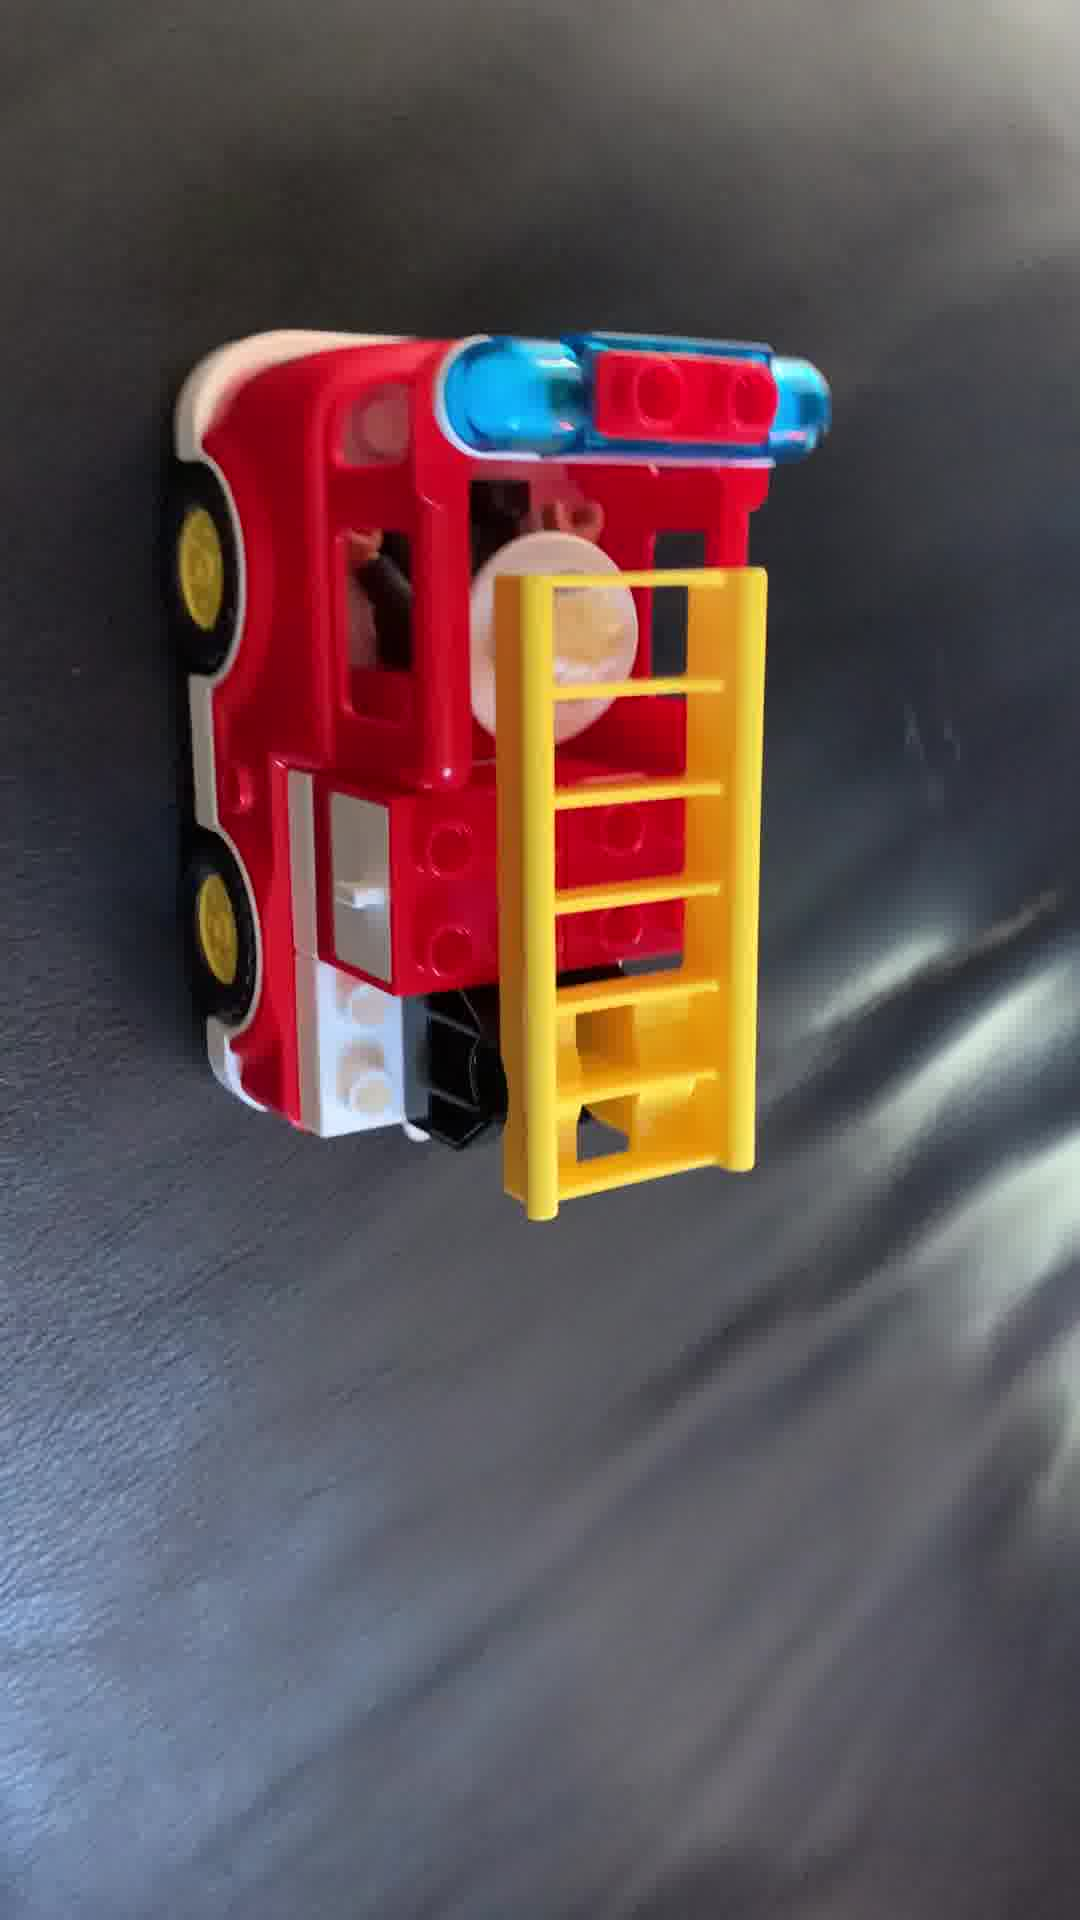lego fire truck: (164, 313, 847, 1232)
